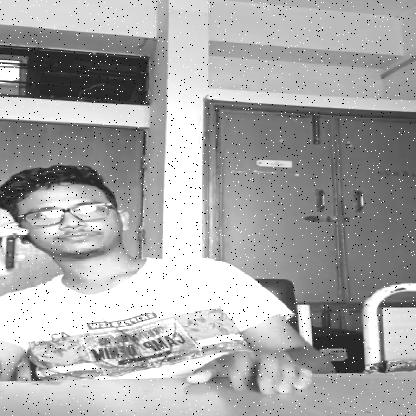Normal: (9, 170, 127, 257)
